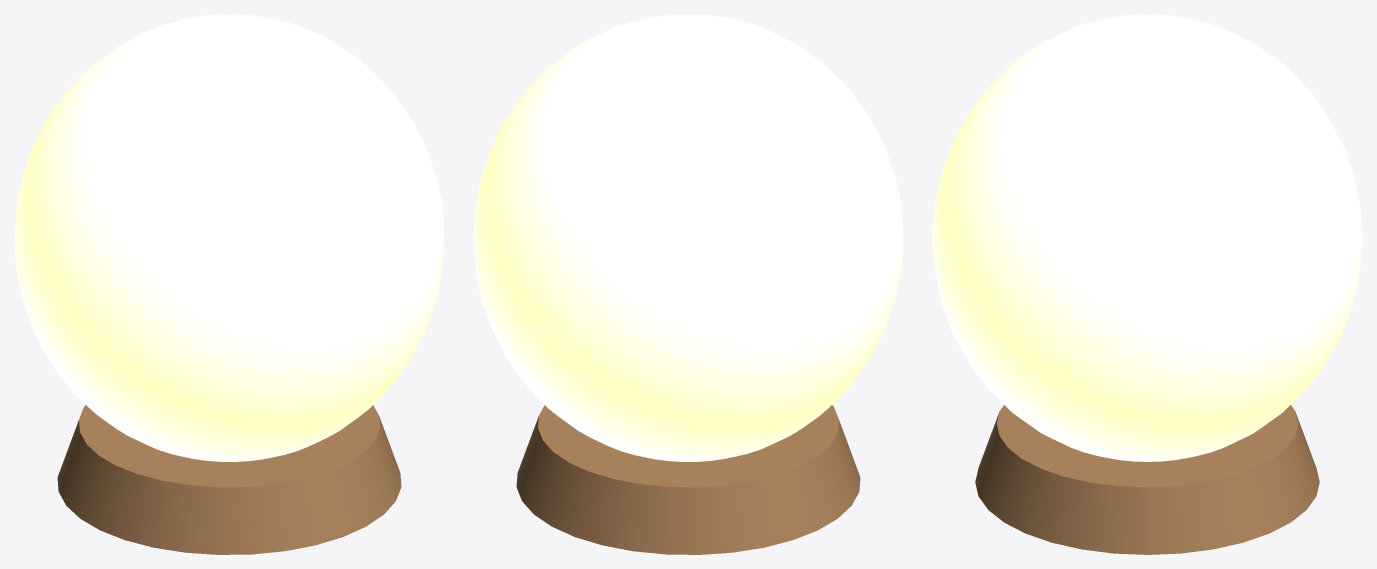
File: lantern-orb.glb
The picture shows the model from 3 angles, left to right: view 1: azimuth 30°, elevation 25°; view 2: azimuth 150°, elevation 25°; view 3: azimuth 270°, elevation 25°; orthographic projection.
Parts seen in each view (by area): view 1: lantern-orb; view 2: lantern-orb; view 3: lantern-orb.
Boxes of the visible parts, x1,y1,x2,y2 form: lantern-orb: (14,14,444,554); lantern-orb: (473,14,903,554); lantern-orb: (932,14,1362,554).
Bounding box in the file's own units: 0.2 × 0.23 × 0.2.
